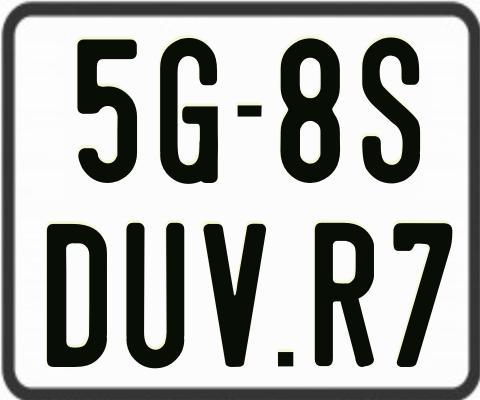5: (76, 37, 140, 183)
7: (392, 223, 451, 372)
8: (279, 36, 342, 186)
D: (46, 221, 106, 369)
G: (157, 38, 215, 186)
R: (313, 221, 376, 365)
S: (361, 36, 422, 188)
U: (126, 223, 187, 369)
V: (201, 224, 265, 371)
